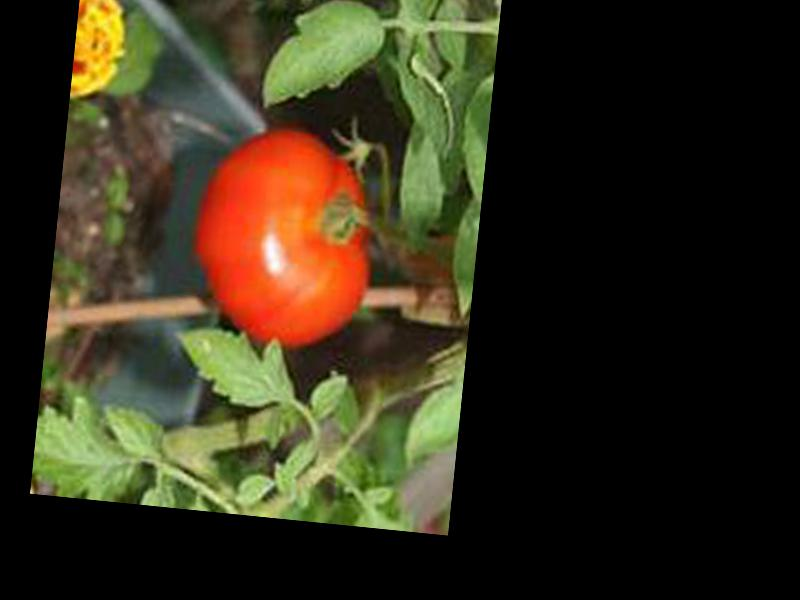Tomato: (187, 118, 384, 357)
